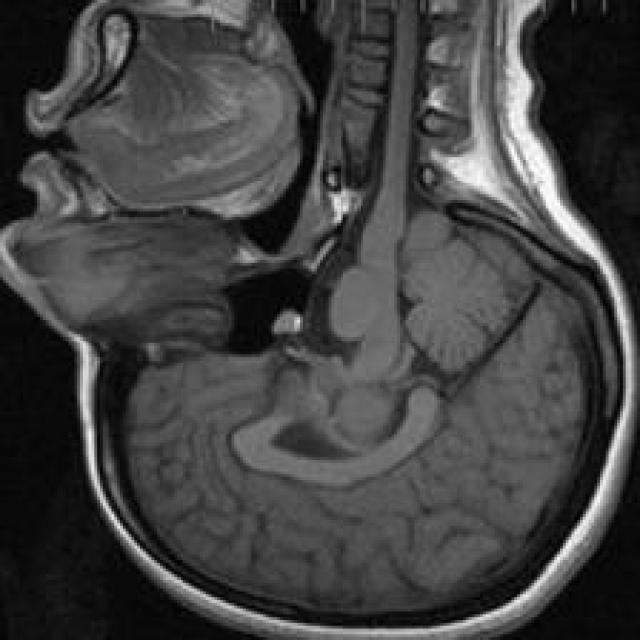no_tumor: (59, 207, 640, 640)
